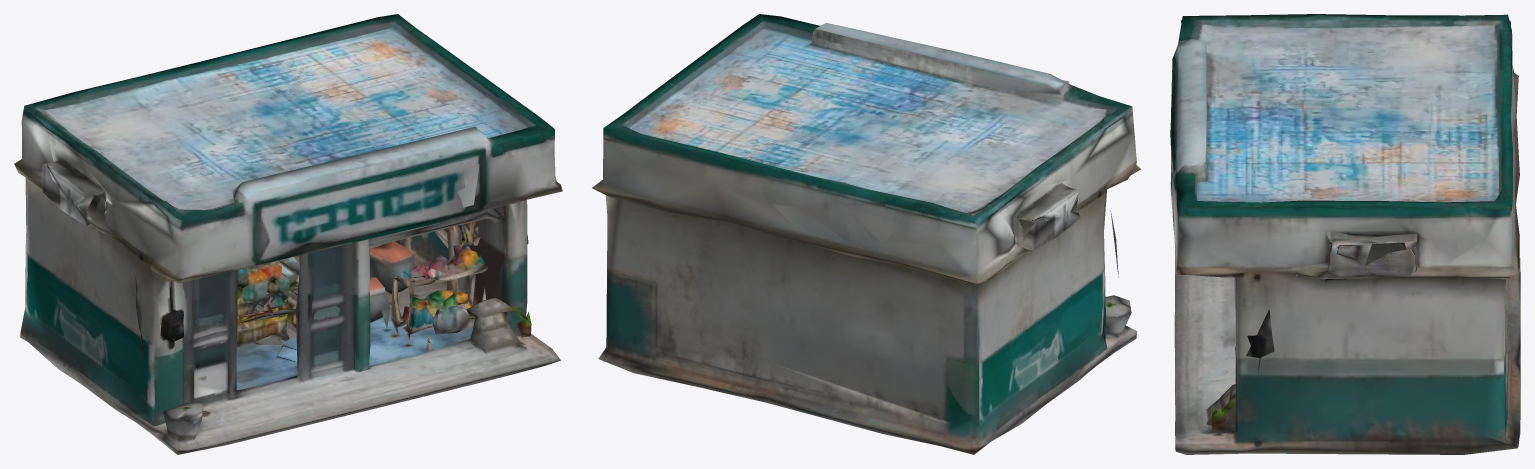
The model's file is botika.glb.
3 views of the same model, side by side, from view 1: azimuth 30°, elevation 25°; view 2: azimuth 150°, elevation 25°; view 3: azimuth 270°, elevation 25° (orthographic). The views are drawn at different scales.
Visible parts, largest first — view 1: geometry_0; view 2: geometry_0; view 3: geometry_0.
Boxes of the visible parts, x1,y1,x2,y2 form: geometry_0: (14,14,562,454); geometry_0: (592,14,1140,454); geometry_0: (1170,14,1520,454).
Bounding box in the file's own units: 1.77 × 1 × 1.23.
Materials: 1 (1 with a texture image).
